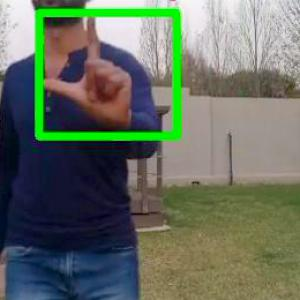land_hand: (37, 7, 136, 127)
